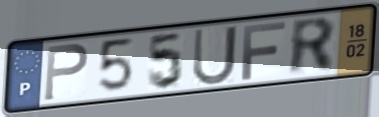5: (144, 30, 185, 92), (97, 36, 135, 95)
F: (239, 19, 288, 82)
P: (42, 42, 91, 103)
R: (288, 16, 337, 78)
U: (191, 23, 239, 88)
